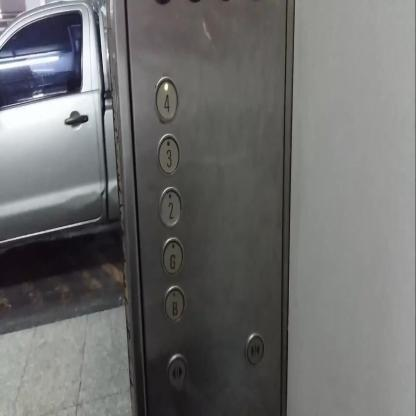2: (157, 183, 183, 229)
3: (156, 131, 180, 176)
4: (152, 72, 179, 126)
B: (162, 283, 186, 323)
G: (160, 234, 184, 276)
close: (245, 330, 264, 367)
open: (166, 350, 188, 388)
